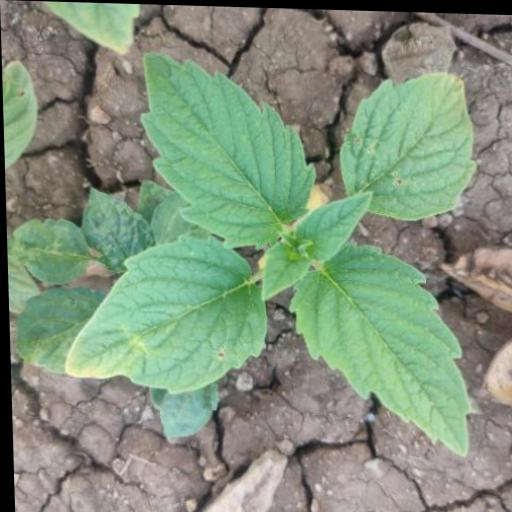crop: (44, 40, 490, 459)
